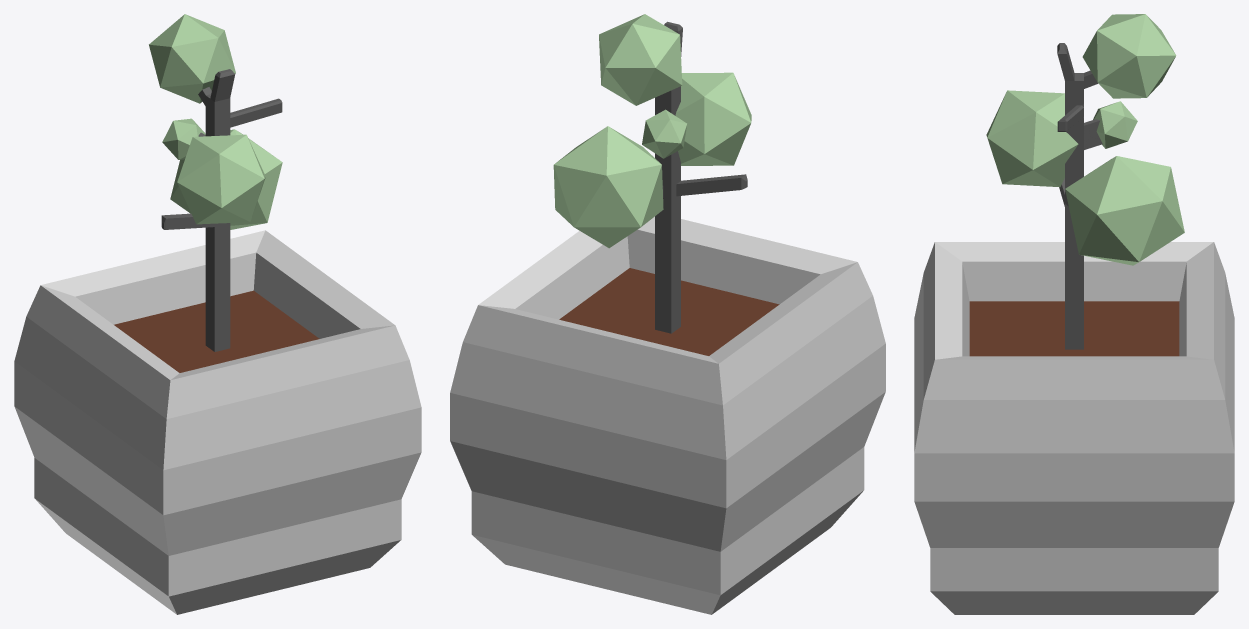
The model's file is alive_plant_2.fbx.
The picture shows the model from 3 angles, left to right: view 1: azimuth 30°, elevation 25°; view 2: azimuth 150°, elevation 25°; view 3: azimuth 270°, elevation 25°; orthographic projection. The views are drawn at different scales.
Parts seen in each view (by area): view 1: Cube.005, Icosphere.003, Icosphere.001, Icosphere.002, Icosphere.004; view 2: Cube.005, Icosphere.002, Icosphere.001, Icosphere.003, Icosphere.004; view 3: Cube.005, Icosphere.002, Icosphere.003, Icosphere.001, Icosphere.004.
Part boxes in pixels (<box>): Cube.005: <box>14,69,421,614</box>; Icosphere.003: <box>177,134,265,224</box>; Icosphere.001: <box>149,14,235,103</box>; Icosphere.002: <box>170,129,282,229</box>; Icosphere.004: <box>162,118,205,159</box>; Cube.005: <box>450,21,885,614</box>; Icosphere.002: <box>553,126,663,248</box>; Icosphere.001: <box>599,14,682,105</box>; Icosphere.003: <box>675,72,751,165</box>; Icosphere.004: <box>642,109,687,158</box>; Cube.005: <box>914,43,1234,614</box>; Icosphere.002: <box>1065,156,1184,265</box>; Icosphere.003: <box>986,90,1078,187</box>; Icosphere.001: <box>1082,14,1176,98</box>; Icosphere.004: <box>1093,101,1137,148</box>.
Bounding box in the file's own units: 108 × 205 × 108.
